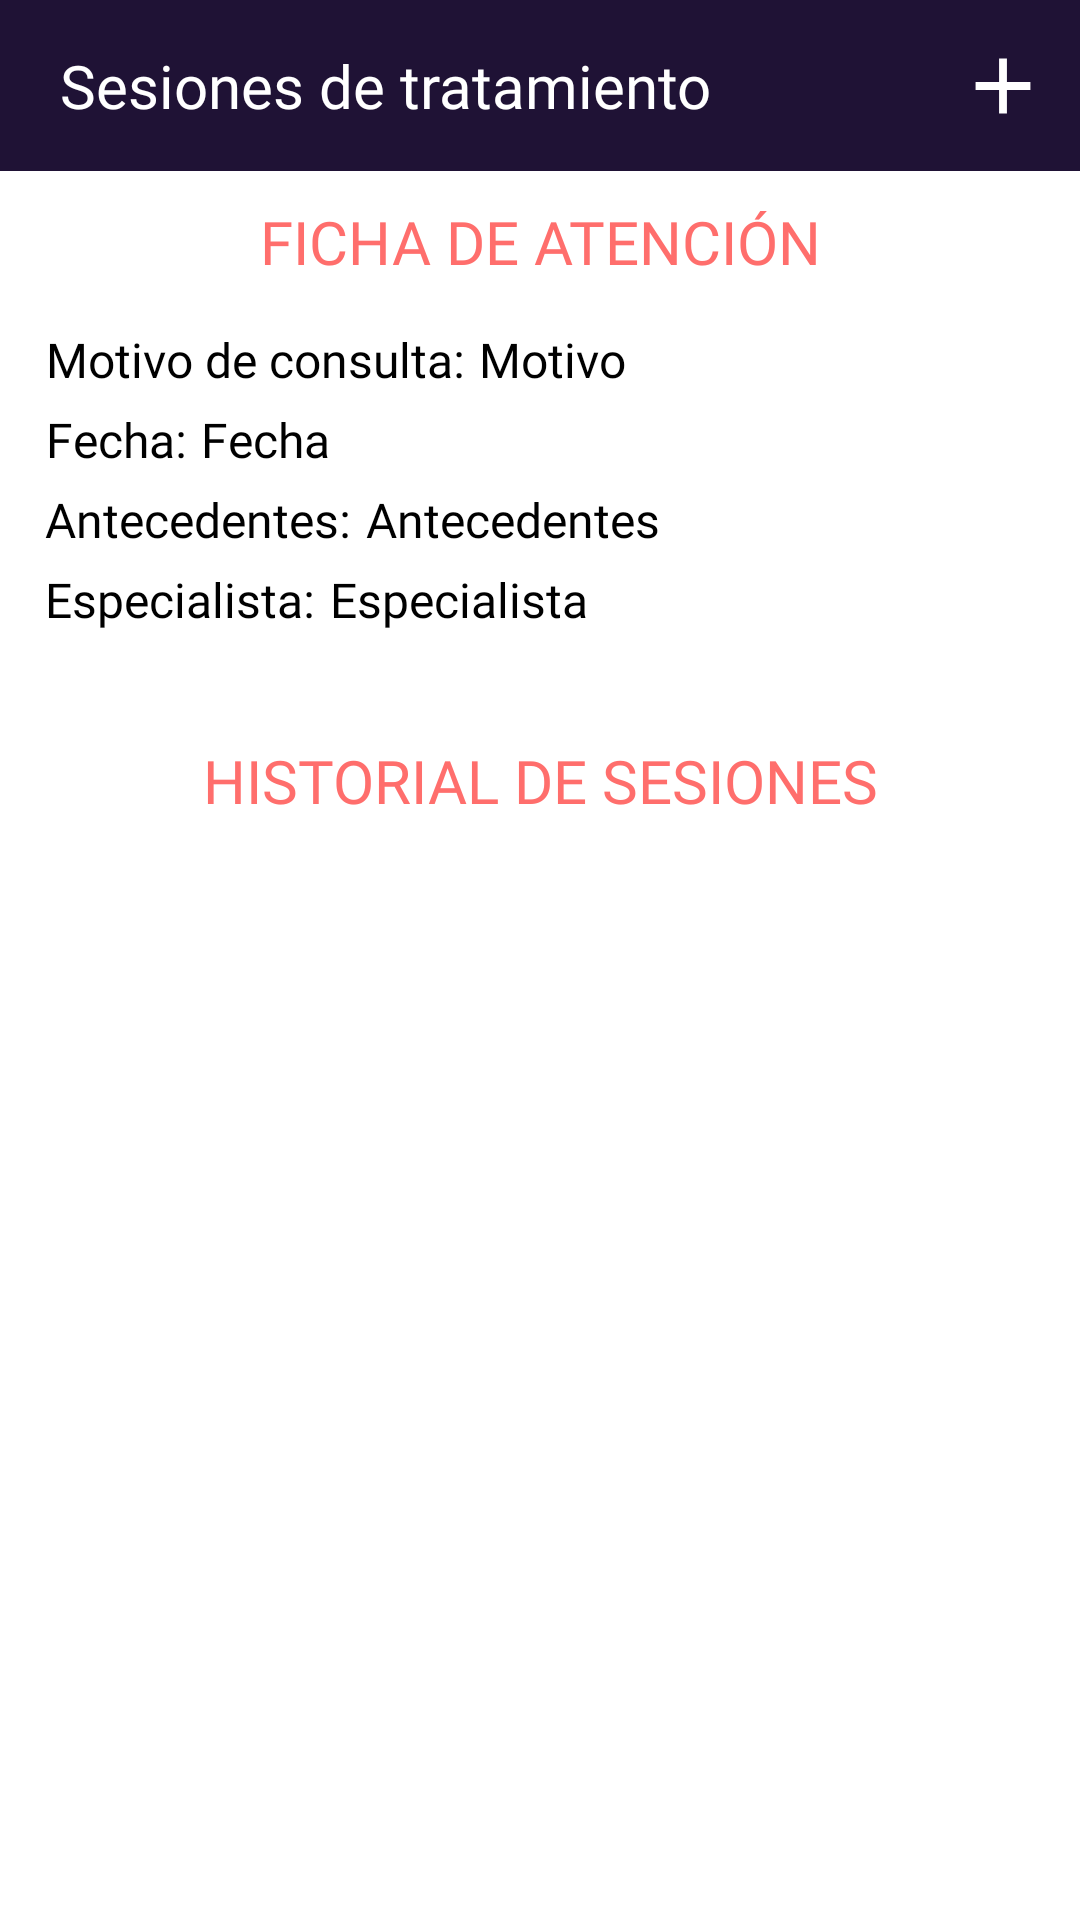

Icons on this 1080w x 1920h Android screen, each with its box as (x1, y1, x2, y2):
add: (975, 58, 1031, 114)
